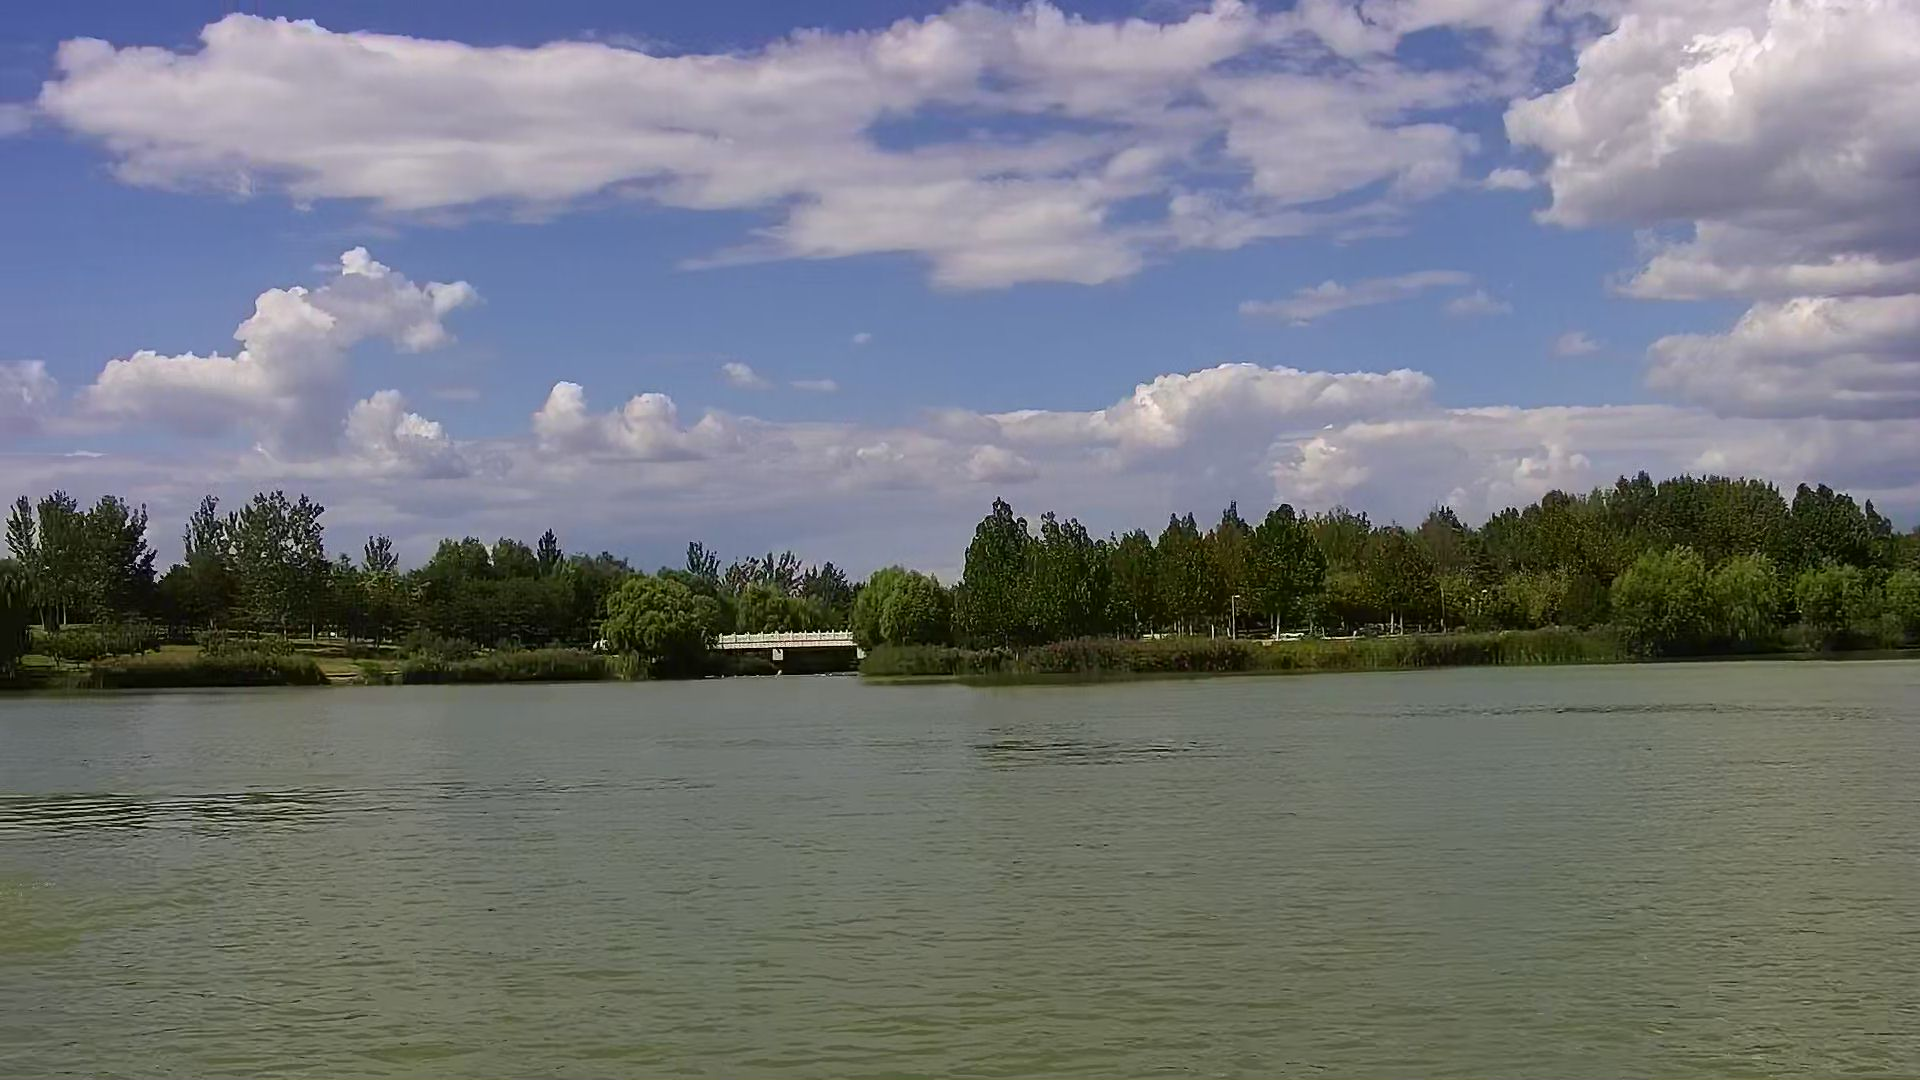bridge: (711, 630, 855, 674)
